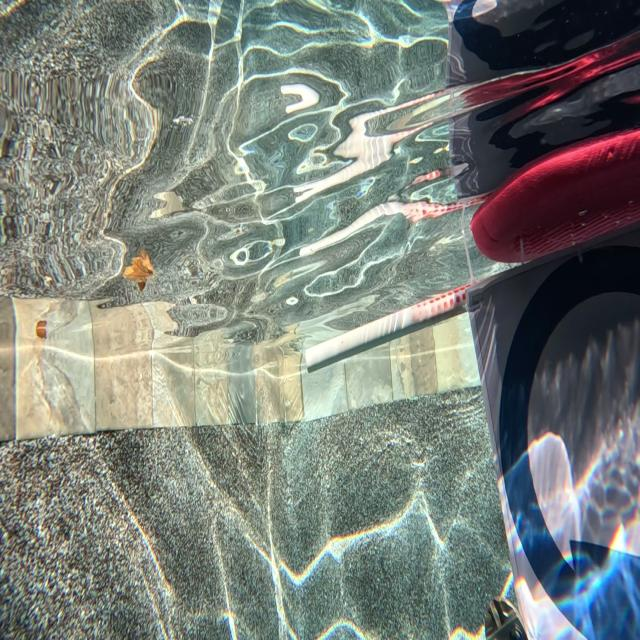blue_side: (502, 242, 640, 640)
